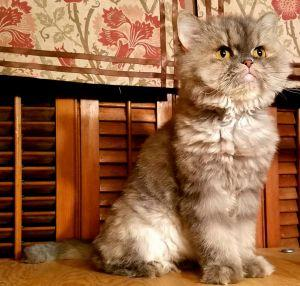persian: (174, 4, 294, 122)
